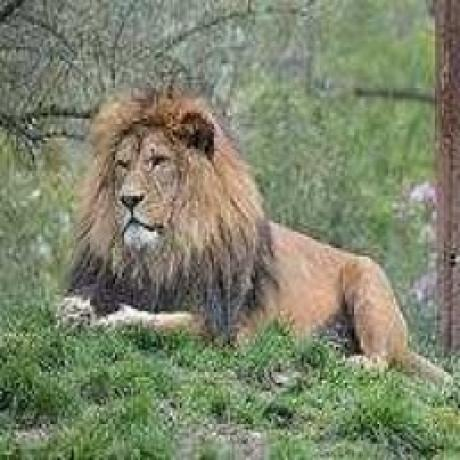Lion: (57, 80, 453, 379)
